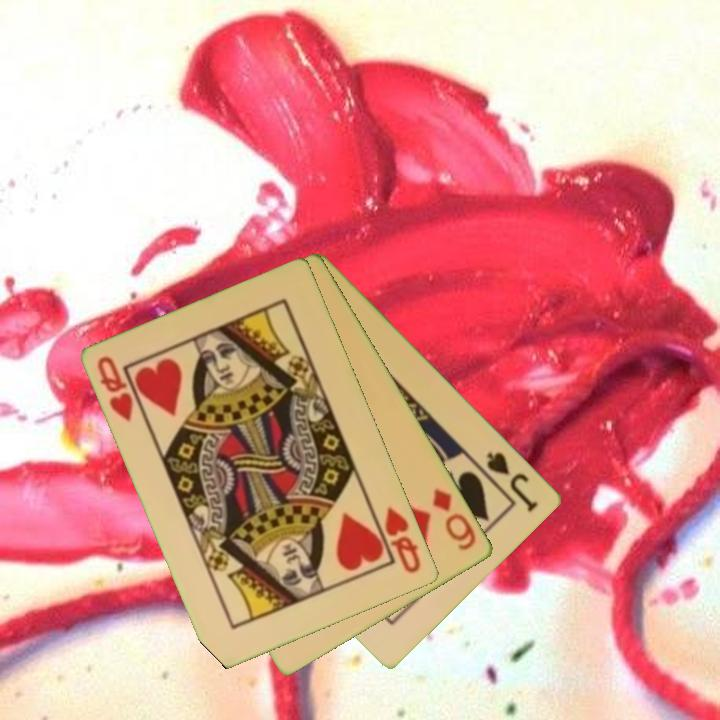6d: (429, 485, 480, 554)
Js: (484, 448, 542, 515)
Qh: (381, 503, 424, 577), (94, 352, 137, 425)
